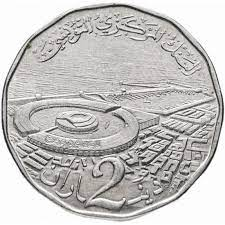2 dinars: (2, 3, 223, 220)
